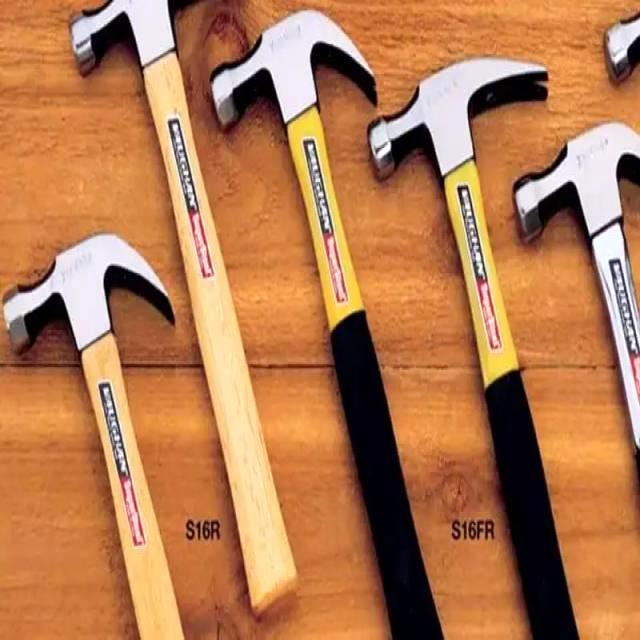hammer: (202, 8, 450, 640), (60, 2, 306, 610), (362, 24, 586, 640), (2, 228, 198, 638), (508, 92, 640, 556)
